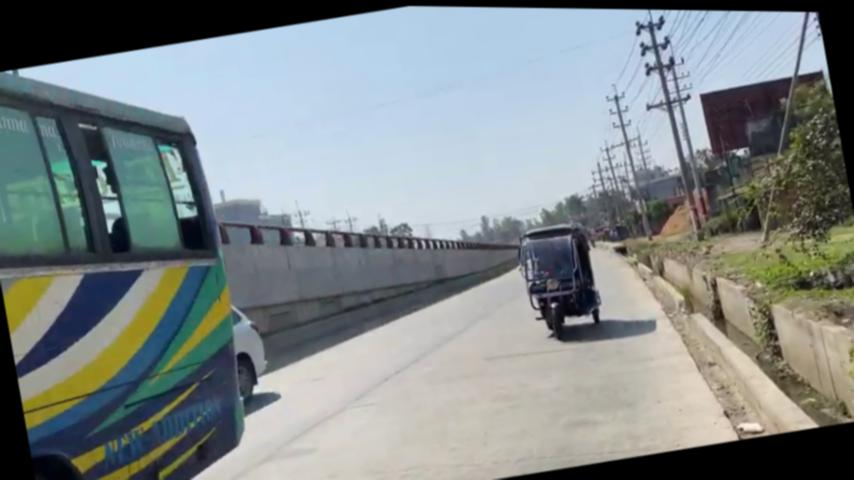Bollard: (224, 297, 273, 401)
Fallen-tree: (216, 165, 530, 339)
Garbage: (631, 7, 705, 240)
Garbage-bin: (716, 282, 854, 439)
Railroad-crossing: (713, 83, 854, 258)
Rickshaw: (0, 38, 269, 480), (510, 214, 606, 343)
